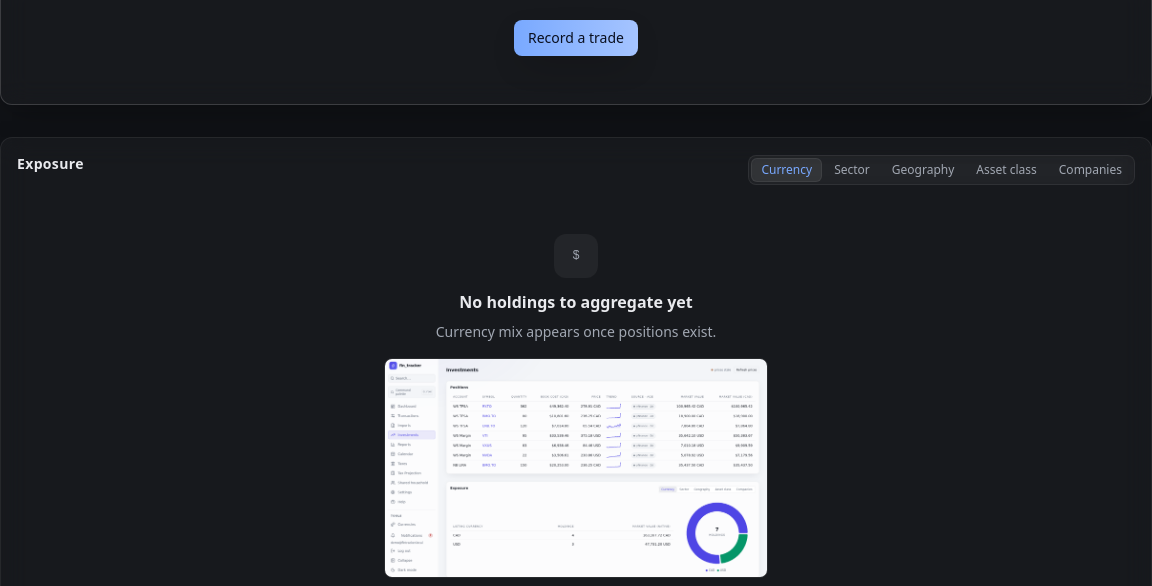
Test: M147 — the Unclassified honesty copy › explains a top-slice-only fund differently (reason=partial)
The image size is (1152, 586).
(page scrolled)
Click the tab "Geography" at (923, 170), box [882, 158, 964, 182]
(page scrolled)
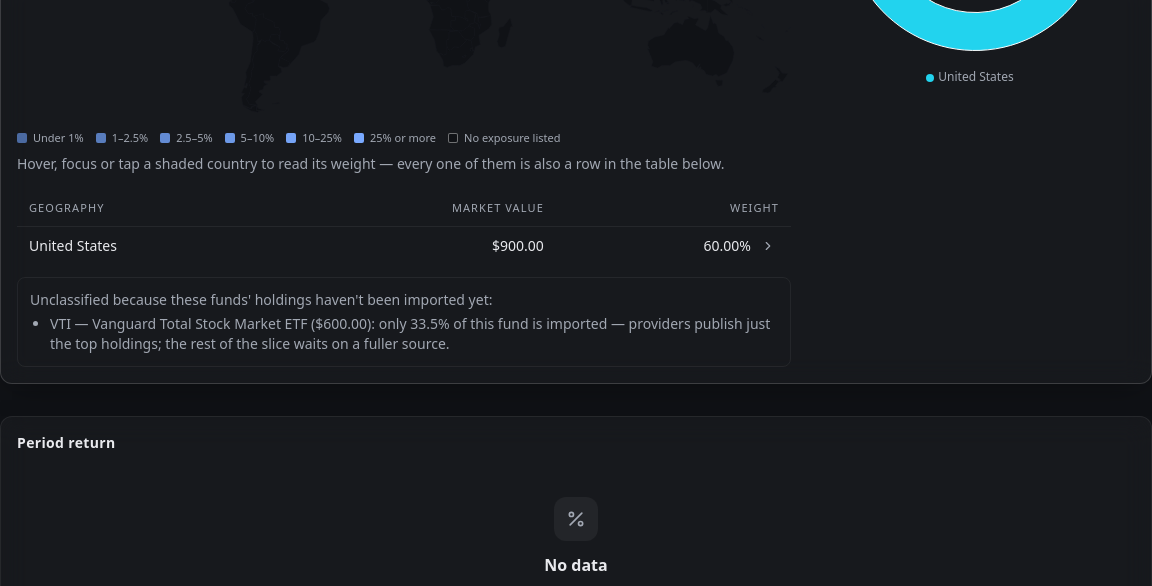
Now the element named "Exposure breakdown table" is shown, box [17, 190, 791, 265]
Now the list item "only 33.5% of this fund is imported" is shown, box [50, 314, 778, 354]
Now the list item "waits on a fuller source" is shown, box [50, 314, 770, 353]
